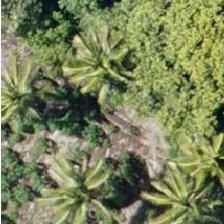Kelapa_Sawit: (58, 16, 148, 106), (34, 139, 124, 224), (0, 50, 80, 140), (136, 146, 224, 224)
